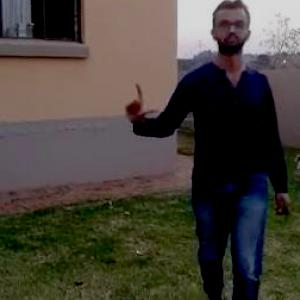land_hand: (116, 79, 160, 126)
